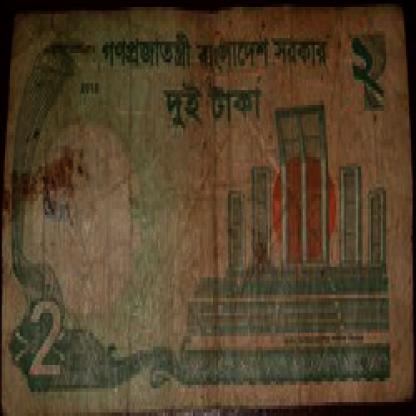two taka: (27, 291, 68, 406), (346, 28, 391, 125)
